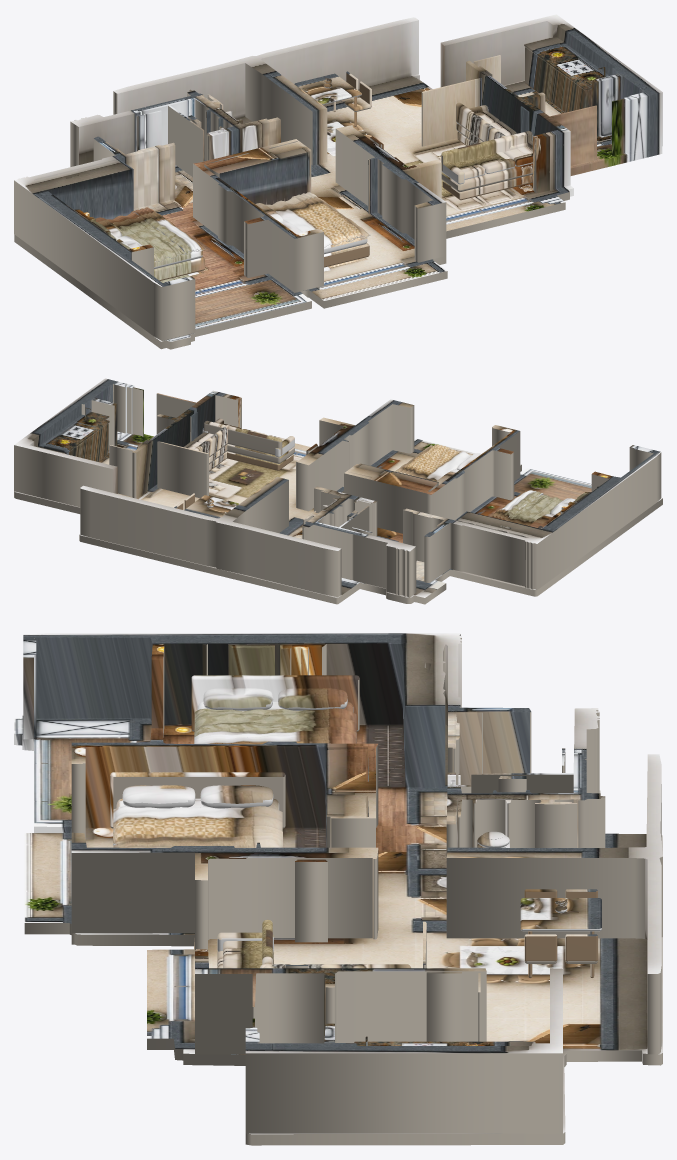
File: p2-07-u01-2110-image-model.glb
3 views of the same model, one above another, from view 1: azimuth 30°, elevation 25°; view 2: azimuth 150°, elevation 25°; view 3: azimuth 270°, elevation 25° (orthographic). The views are drawn at different scales.
Visible parts, largest first — view 1: Partition walls, Apartment floor, Kitchen cabinets, Draped bed linen.002, Draped bed linen, Stone worktop, Sofa back, Marble dining top, Draped bed linen.003, Upholstered sofa frame, Sofa back.001, Draped bed linen.001 (+4 smaller); view 2: Partition walls, Apartment floor, Sofa back, Draped bed linen.002, Draped bed linen, Kitchen cabinets, Stone worktop, Marble dining top, Draped bed linen.003, Draped bed linen.001, Upholstered sofa frame, Sofa back.001 (+1 smaller); view 3: Partition walls, Apartment floor, Draped bed linen.002, Draped bed linen, Upholstered headboard.001, Upholstered headboard, Marble dining top, Draped bed linen.003, Draped bed linen.001, Tailored pillow.002, Tailored pillow.003, Tailored pillow (+4 smaller).
Boxes of the visible parts, left/top/right/bottom form: Partition walls: left=14, top=14, right=662, bottom=340; Apartment floor: left=14, top=74, right=662, bottom=349; Kitchen cabinets: left=525, top=47, right=591, bottom=112; Draped bed linen.002: left=265, top=193, right=370, bottom=247; Draped bed linen: left=106, top=209, right=206, bottom=261; Stone worktop: left=524, top=37, right=609, bottom=90; Sofa back: left=441, top=131, right=532, bottom=171; Marble dining top: left=294, top=73, right=361, bottom=104; Draped bed linen.003: left=291, top=192, right=364, bottom=240; Upholstered sofa frame: left=441, top=163, right=532, bottom=191; Sofa back.001: left=456, top=102, right=510, bottom=151; Draped bed linen.001: left=131, top=207, right=200, bottom=253; Partition walls: left=14, top=378, right=661, bottom=597; Apartment floor: left=14, top=431, right=662, bottom=604; Sofa back: left=204, top=420, right=282, bottom=455; Draped bed linen.002: left=395, top=445, right=471, bottom=481; Draped bed linen: left=490, top=490, right=562, bottom=525; Kitchen cabinets: left=66, top=423, right=108, bottom=461; Stone worktop: left=38, top=414, right=109, bottom=453; Marble dining top: left=184, top=495, right=238, bottom=518; Draped bed linen.003: left=397, top=444, right=450, bottom=474; Draped bed linen.001: left=491, top=490, right=543, bottom=519; Upholstered sofa frame: left=227, top=444, right=294, bottom=463; Sofa back.001: left=194, top=425, right=229, bottom=457; Partition walls: left=23, top=633, right=662, bottom=1133; Apartment floor: left=14, top=714, right=662, bottom=1145; Draped bed linen.002: left=113, top=806, right=282, bottom=847; Draped bed linen: left=194, top=708, right=356, bottom=744; Upholstered headboard.001: left=110, top=772, right=285, bottom=828; Upholstered headboard: left=191, top=675, right=359, bottom=731; Marble dining top: left=520, top=898, right=601, bottom=931; Draped bed linen.003: left=113, top=825, right=282, bottom=846; Draped bed linen.001: left=194, top=726, right=356, bottom=743; Tailored pillow.002: left=122, top=785, right=195, bottom=808; Tailored pillow.003: left=200, top=785, right=273, bottom=808; Tailored pillow: left=203, top=688, right=273, bottom=710.
Size of the model in its own units: 12.78 by 1.3 by 8.34.
Materials: 14 (3 with a texture image).
